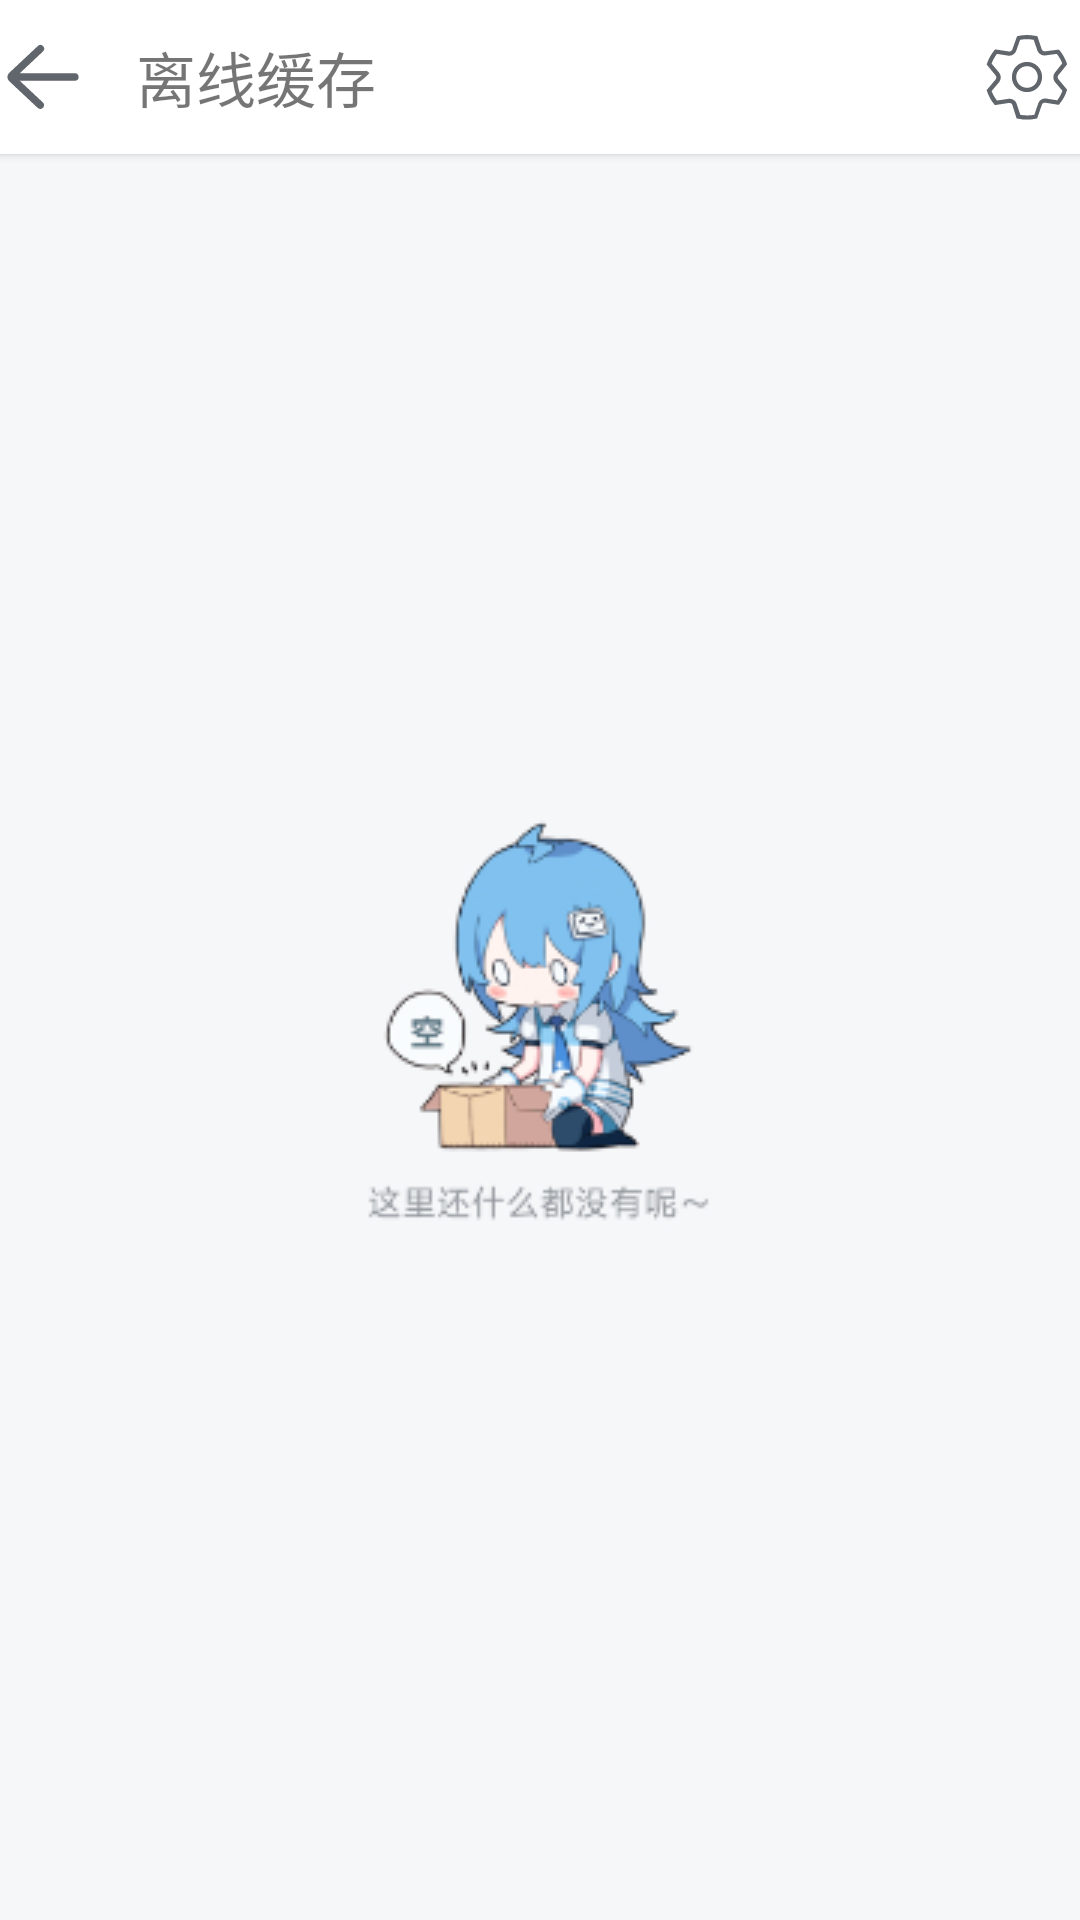

Named icons in this screenshot (1080*1920) and their bounding boxes, bbox(x1, y1, x2, y2):
back: bbox(7, 45, 79, 109)
set: bbox(986, 35, 1067, 120)
